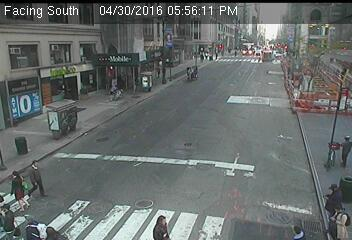neg: (196, 132, 241, 192), (126, 153, 153, 189), (159, 87, 183, 119), (229, 71, 253, 103), (303, 58, 327, 90), (130, 12, 153, 42), (182, 14, 203, 42), (273, 93, 293, 120), (109, 1, 129, 27), (214, 7, 233, 32), (301, 4, 320, 29), (199, 86, 217, 110), (259, 69, 274, 90), (175, 59, 190, 79), (272, 19, 284, 35), (156, 45, 165, 57)
pos: (19, 157, 54, 205), (333, 131, 351, 171), (327, 180, 349, 210), (203, 50, 212, 62), (213, 51, 221, 61), (232, 48, 240, 58), (227, 46, 232, 54)
